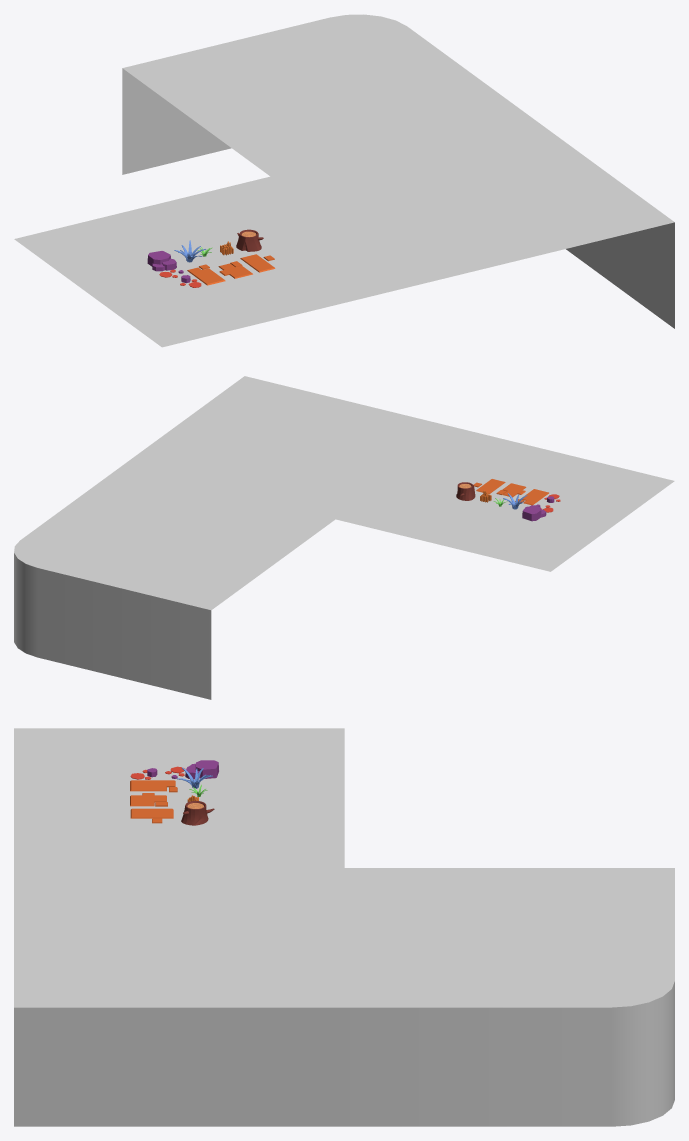
Rendered from reverseEnv.fbx.
The picture shows the model from 3 angles, top to bottom: view 1: azimuth 30°, elevation 25°; view 2: azimuth 150°, elevation 25°; view 3: azimuth 270°, elevation 25°; orthographic projection. The views are drawn at different scales.
Parts seen in each view (by area): view 1: place.001, place.002, place; view 2: place.002, place.001, place; view 3: place.001, place.002, place, wood.
Boxes of the visible parts, <box> form: place.001: <box>271,114,674,328</box>; place.002: <box>122,14,526,176</box>; place: <box>14,176,417,347</box>; place.002: <box>14,467,335,699</box>; place.001: <box>121,376,459,519</box>; place: <box>336,428,674,571</box>; place.001: <box>14,868,344,1126</box>; place.002: <box>344,868,674,1126</box>; place: <box>14,728,344,867</box>; wood: <box>181,801,214,825</box>.
Bounding box in the file's own units: 10 × 2.26 × 10.
